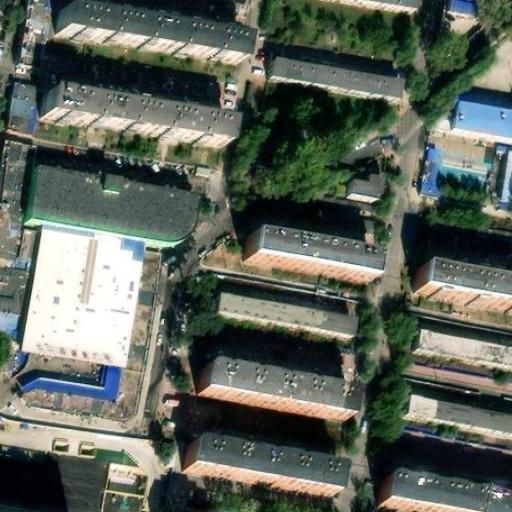building: (14, 232, 159, 419), (26, 175, 199, 256), (44, 92, 219, 143), (54, 10, 234, 57), (191, 360, 347, 414), (176, 444, 328, 499), (210, 304, 353, 346), (241, 235, 371, 279), (268, 68, 402, 106), (375, 477, 512, 512), (400, 404, 512, 444), (414, 265, 512, 310), (412, 339, 512, 378), (449, 111, 512, 148), (6, 80, 35, 134), (419, 148, 444, 193), (346, 177, 384, 205), (99, 489, 142, 512), (0, 498, 68, 512), (320, 213, 373, 230), (440, 234, 477, 251)
